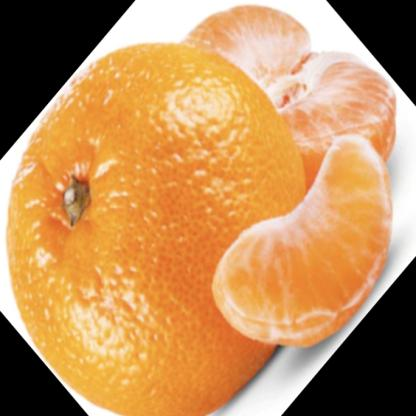fresh: (10, 44, 395, 416)
